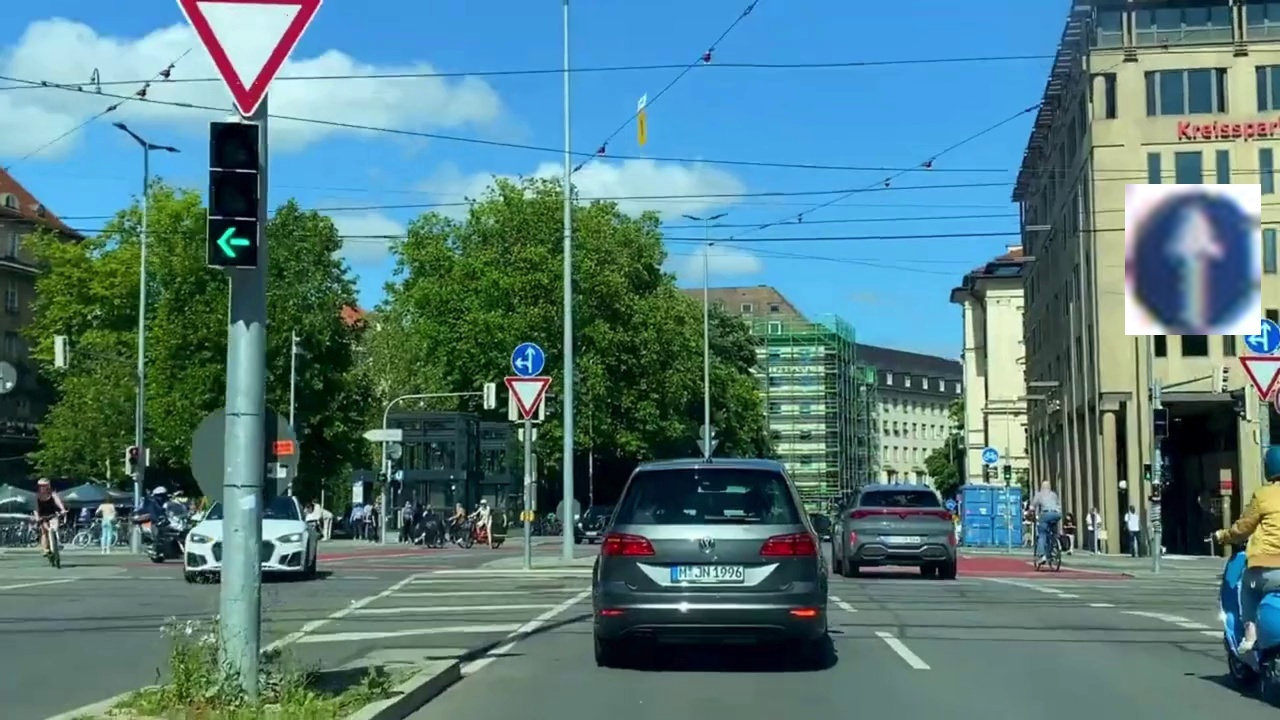Ahead only: (1125, 184, 1261, 335)
